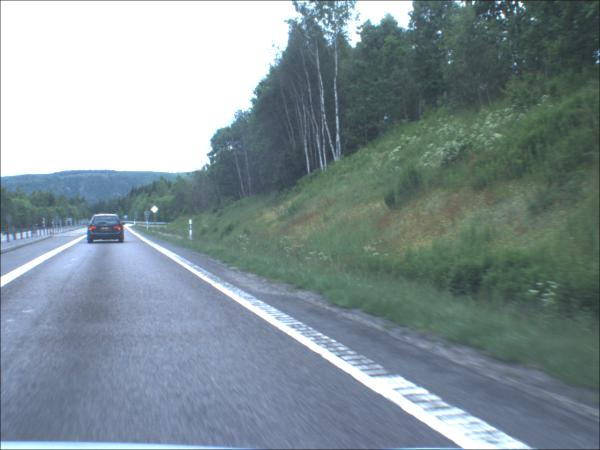PRIORITY_ROAD: (151, 205, 160, 215)
